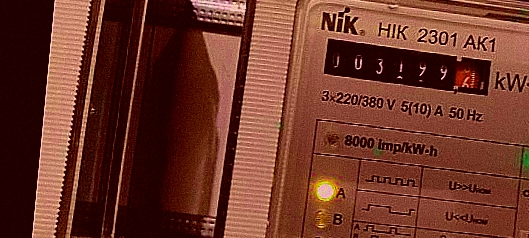0: (327, 47, 341, 69), (350, 49, 364, 70)
1: (394, 53, 406, 73)
3: (372, 54, 385, 74)
6: (460, 72, 472, 89)
9: (415, 56, 428, 77), (436, 60, 449, 80)
screen: (315, 32, 501, 103)
